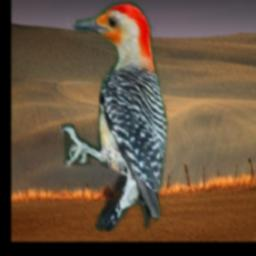Woodpecker: (61, 3, 169, 232)
